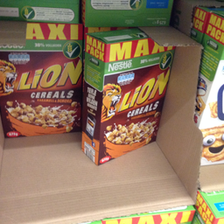cereal: (82, 28, 175, 166), (1, 40, 84, 139)
